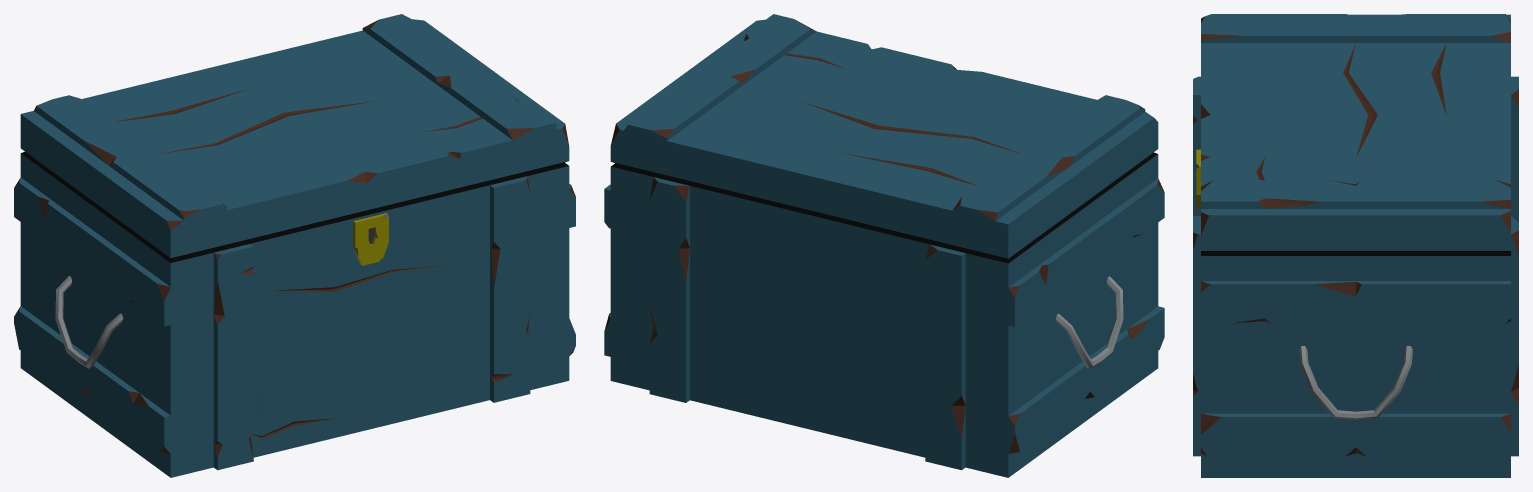
The model's file is Caisse_Armee_B.FBX.
3 renders of one model, left to right at view 1: azimuth 30°, elevation 25°; view 2: azimuth 150°, elevation 25°; view 3: azimuth 270°, elevation 25°, orthographic. The views are drawn at different scales.
Parts seen in each view (by area): view 1: Caisse_Armee_B; view 2: Caisse_Armee_B; view 3: Caisse_Armee_B.
Boxes of the visible parts, x1,y1,x2,y2 form: Caisse_Armee_B: (14,14,575,477); Caisse_Armee_B: (604,14,1164,477); Caisse_Armee_B: (1193,14,1518,477).
Size of the model in its own units: 94.02 by 53.51 by 58.62.
Materials: 1 (1 with a texture image).
